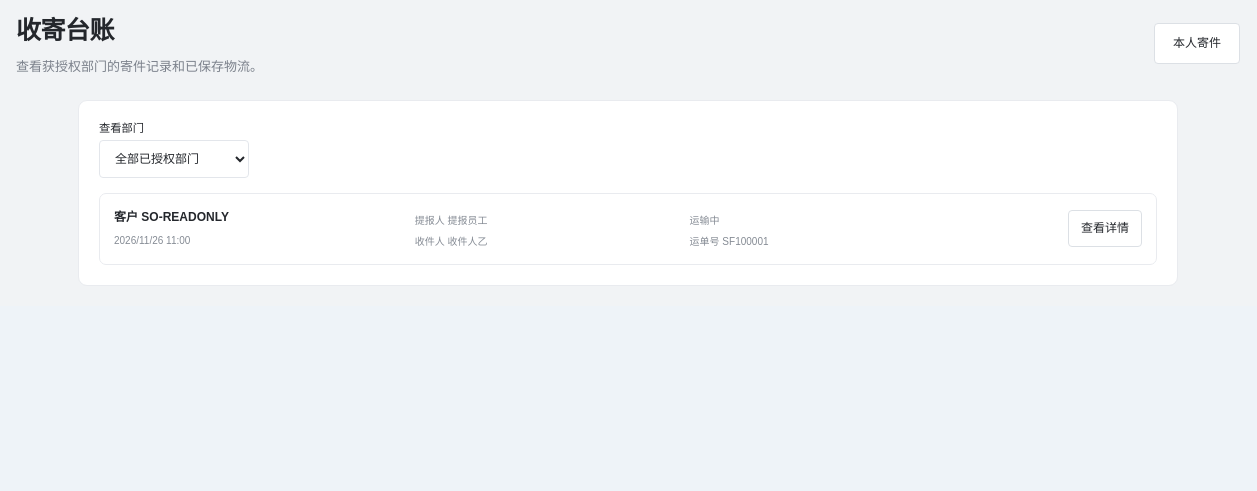
Test: reads scoped details and cached tracking through GET only
This screenshot has width=1257, height=491.
Expected: the text "客户 SO-READONLY" is shown, top-left (114, 210), bottom-right (229, 224)
Select "华南" in the dropdown labelled "查看部门" at [174, 158], box top-left (99, 140), bottom-right (249, 178)
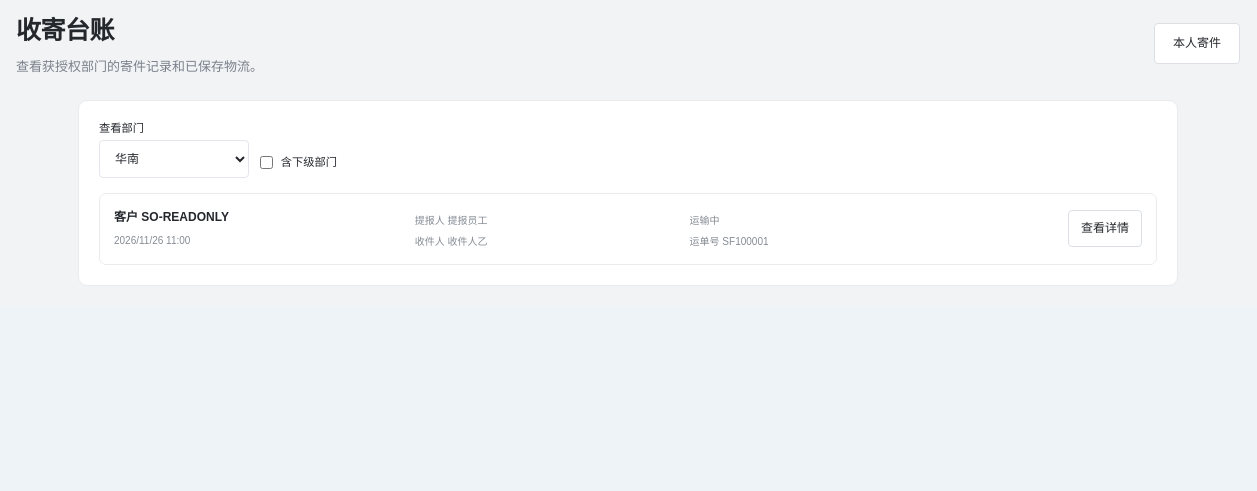
Expected: the button with aria-label "查看寄件详情 SO-READONLY" is shown, top-left (1068, 210), bottom-right (1142, 247)
Click the checkbox labelled "含下级部门" at [267, 162], box top-left (260, 156), bottom-right (273, 169)
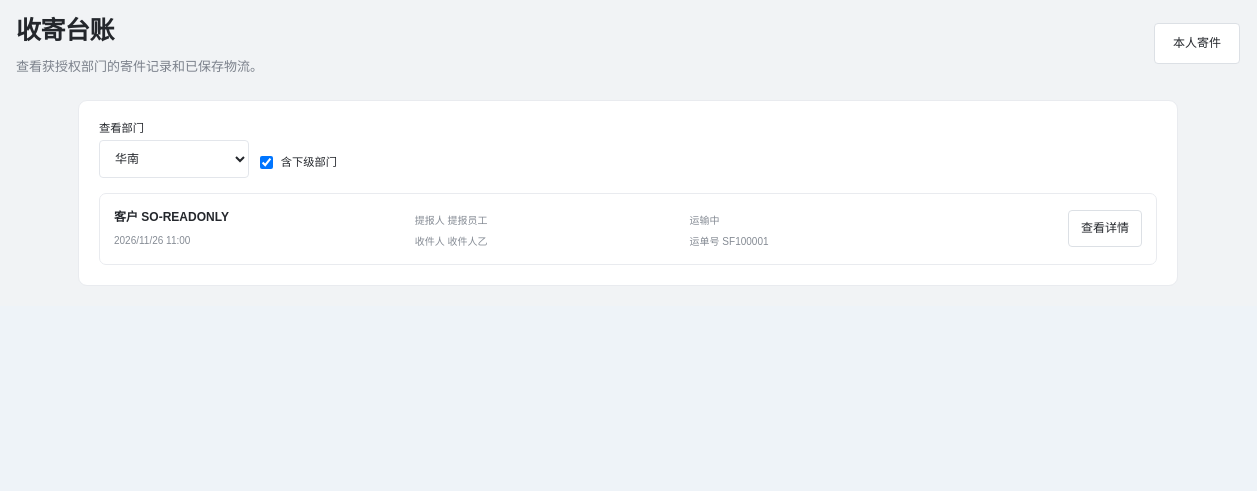
Click the button with aria-label "查看寄件详情 SO-READONLY" at [1105, 229], box top-left (1068, 210), bottom-right (1142, 247)
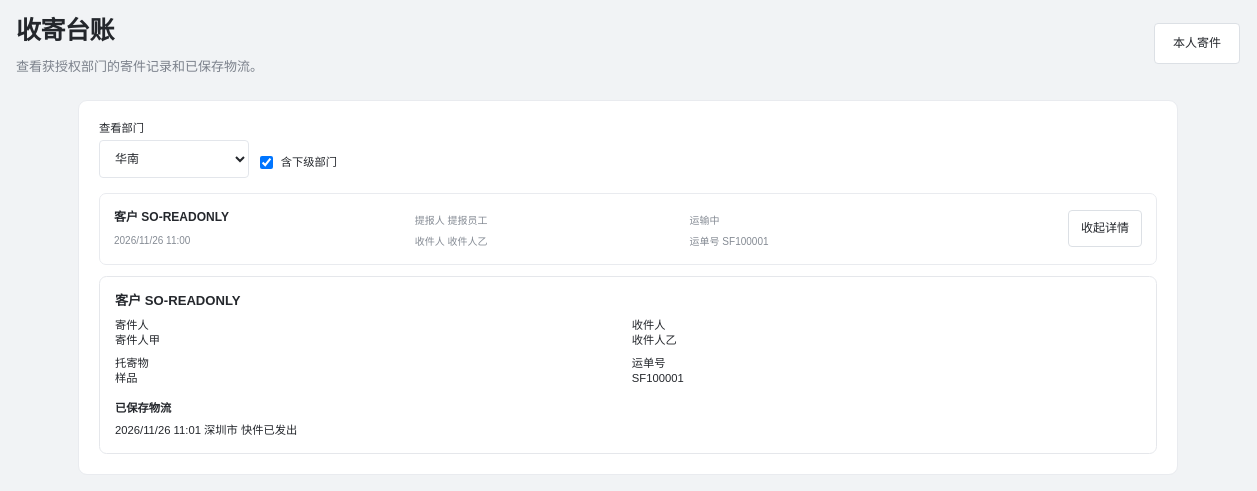
Expected: the list item "2026/11/26 11:01 深圳市 快件已发出" is shown, top-left (115, 424), bottom-right (297, 436)
Expected: the element named "寄件详情" shows "样品", top-left (115, 372), bottom-right (138, 384)
